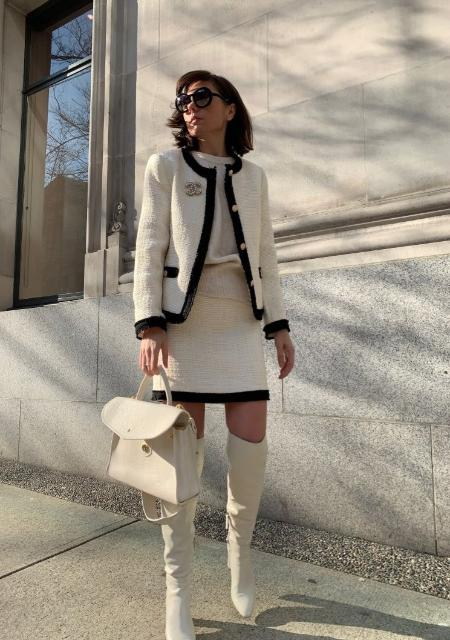Chanel: (181, 180, 205, 198)
